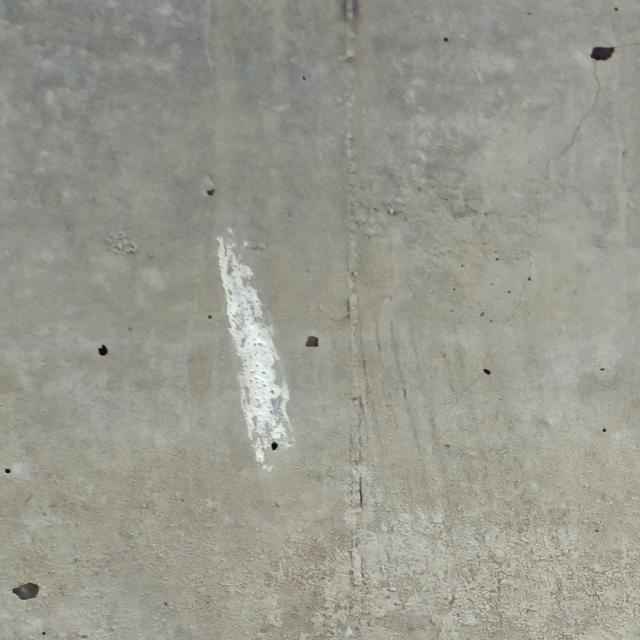D01: (218, 238, 293, 465)
